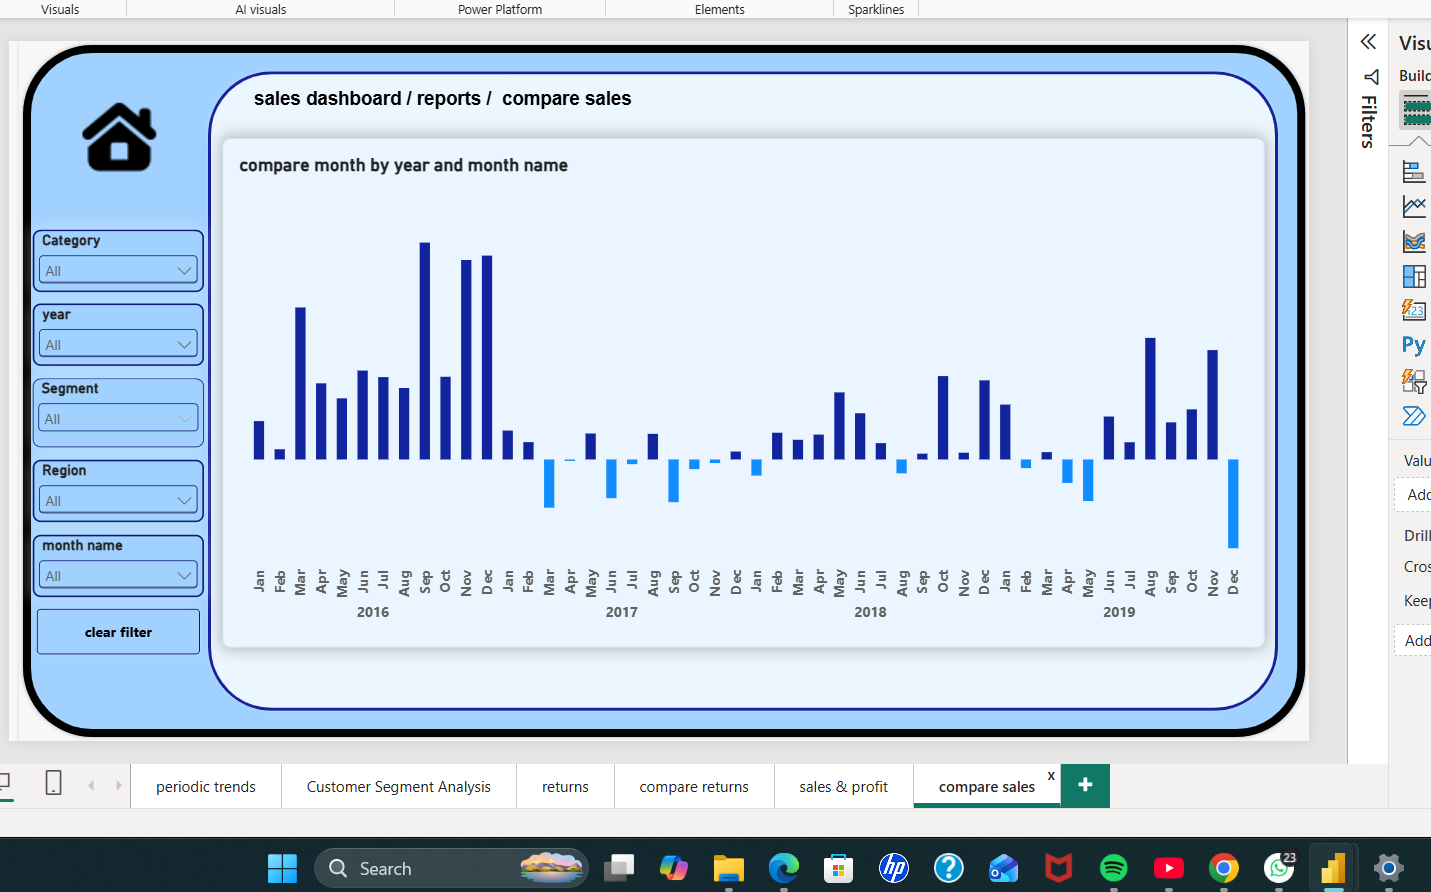

Layout of this report page (visuals, bound fields, positions):
{"tool":"powerbi","page":{"name":"compare sales","canvas":[1300,700],"ordinal":6},"visuals":[{"type":"shape","box":[9.8,0,1290.2,700],"z":0},{"type":"shape","box":[195,27.5,1078,647.6],"z":1},{"type":"columnChart","fields":{"Category":["calender table.year","calender table.month name"],"Y":["Orders.compare month"]},"box":[212.5,210,1041.2,417.5],"z":2},{"type":"image","box":[57.5,47.5,105,102.5],"z":3},{"type":"slicer","fields":{"Values":["Orders.Category"]},"box":[23.8,141.2,171.2,62.5],"z":4},{"type":"slicer","fields":{"Values":["calender table.year"]},"box":[23.8,210,171.2,62.5],"z":5},{"type":"slicer","fields":{"Values":["Orders.Segment"]},"box":[23.8,282.5,171.2,68.8],"z":6},{"type":"slicer","fields":{"Values":["Orders.Region"]},"box":[23.8,356.2,171.2,62.5],"z":7},{"type":"slicer","fields":{"Values":["calender table.month name"]},"box":[23.8,428.8,171.2,62.5],"z":8},{"type":"actionButton","box":[23.8,573.8,171.2,53.8],"z":9},{"type":"textbox","box":[245,47.5,657.5,32.5],"z":10},{"type":"cardVisual","fields":{"Data":["Orders.total order","Orders.total profit","Orders.total sales","Orders.YoY","Orders.running total"]},"box":[216.2,85,1035,103.8],"z":11},{"type":"image","box":[351.2,105,48.8,77.5],"z":12},{"type":"image","box":[553.8,113.8,57.3,54.9],"z":13},{"type":"image","box":[772.5,105,42.5,72.5],"z":14},{"type":"image","box":[971.2,108.8,52.4,59.8],"z":15},{"type":"image","box":[1187.5,102.5,38.8,72.5],"z":16},{"type":"slicer","fields":{"Values":["Orders.Ship Mode"]},"box":[23.8,503.8,171.2,62.5],"z":17}]}

Visuals, with their boxes on the page's 1300x700 design canvas (x1, y1, x2, y2). These are canvas units, not pixel positions in the 1431x892 screenshot, which may show the page scaled, cropped or inside an application window:
shape: 10/0/1300/700
shape: 195/28/1273/675
columnChart - calender table.year x calender table.month name: 212/210/1254/628
image: 58/48/162/150
slicer - Orders.Category: 24/141/195/204
slicer - calender table.year: 24/210/195/272
slicer - Orders.Segment: 24/282/195/351
slicer - Orders.Region: 24/356/195/419
slicer - calender table.month name: 24/429/195/491
actionButton: 24/574/195/628
textbox: 245/48/902/80
cardVisual - Orders.total order x Orders.total profit: 216/85/1251/189
image: 351/105/400/182
image: 554/114/611/169
image: 772/105/815/178
image: 971/109/1024/169
image: 1188/102/1226/175
slicer - Orders.Ship Mode: 24/504/195/566
